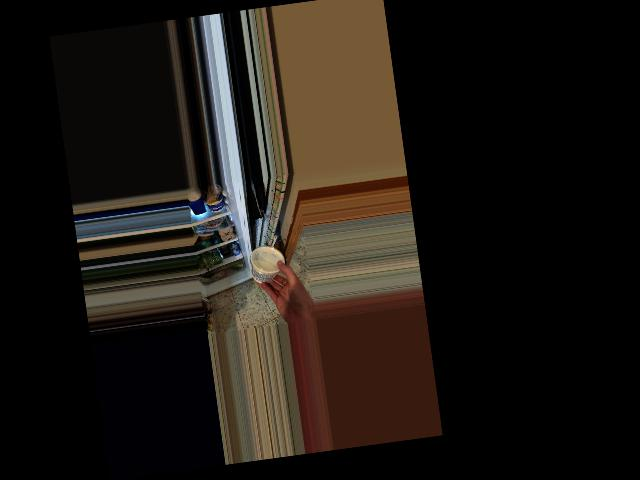cotage: (250, 244, 283, 282)
